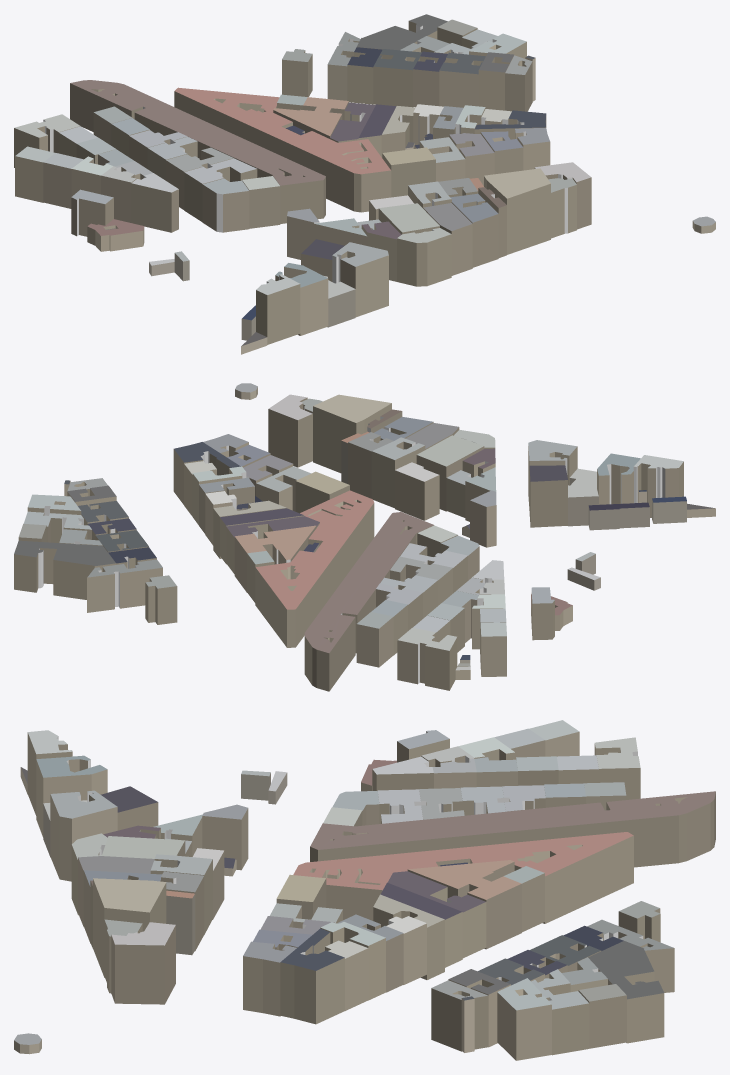
3 renders of one model, top to bottom at view 1: azimuth 30°, elevation 25°; view 2: azimuth 150°, elevation 25°; view 3: azimuth 270°, elevation 25°, orthographic. The views are drawn at different scales.
Visible parts, largest first — view 1: tuile; view 2: tuile; view 3: tuile.
Boxes of the visible parts, bbox=[...] form: tuile: bbox=[14, 14, 715, 354]; tuile: bbox=[14, 383, 715, 691]; tuile: bbox=[14, 720, 715, 1060].
Bounding box in the file's own units: 264 × 33.64 × 261.
